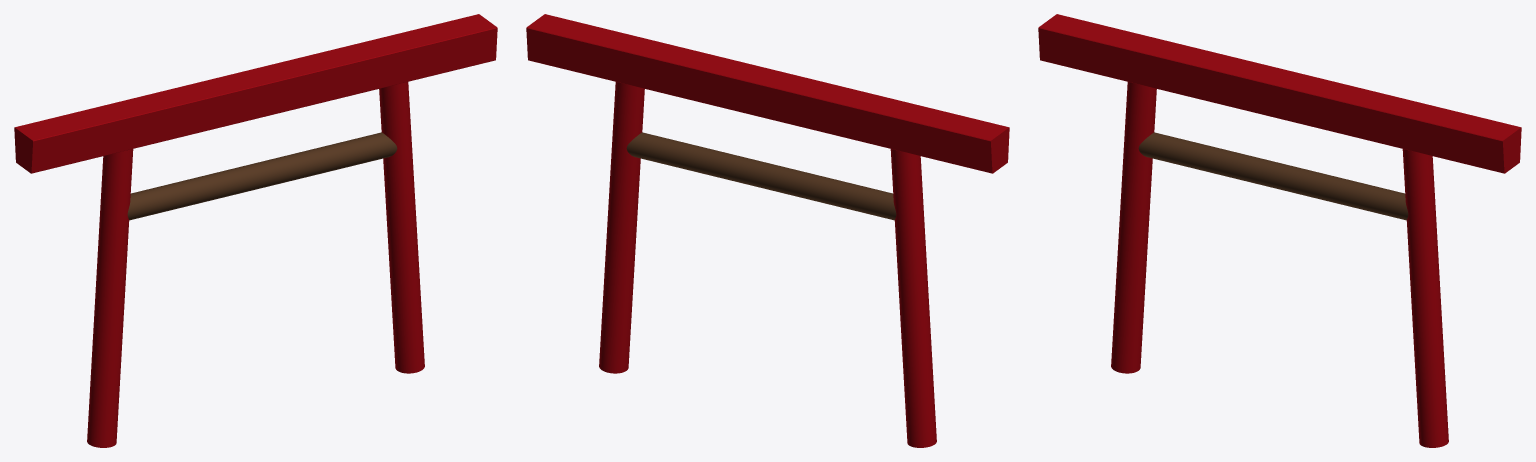
The model's file is Shinmei_Angled_1.fbx.
3 renders of one model, left to right at view 1: azimuth 30°, elevation 25°; view 2: azimuth 150°, elevation 25°; view 3: azimuth 330°, elevation 25°, orthographic.
Visible parts, largest first — view 1: Cube.004; view 2: Cube.004; view 3: Cube.004.
Part boxes in pixels (left/top/right/bottom): Cube.004: left=14, top=14, right=497, bottom=447; Cube.004: left=526, top=14, right=1009, bottom=447; Cube.004: left=1038, top=14, right=1521, bottom=447.
Size of the model in its own units: 513 by 346 by 36.02.
